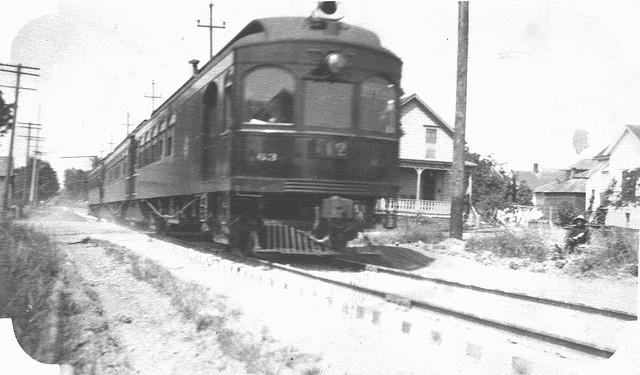Train: (86, 17, 406, 262)
